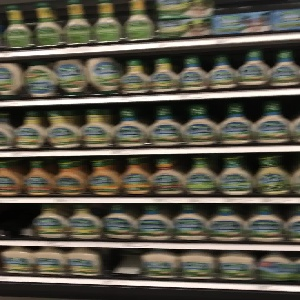void: (98, 249, 142, 281), (1, 203, 35, 243)
